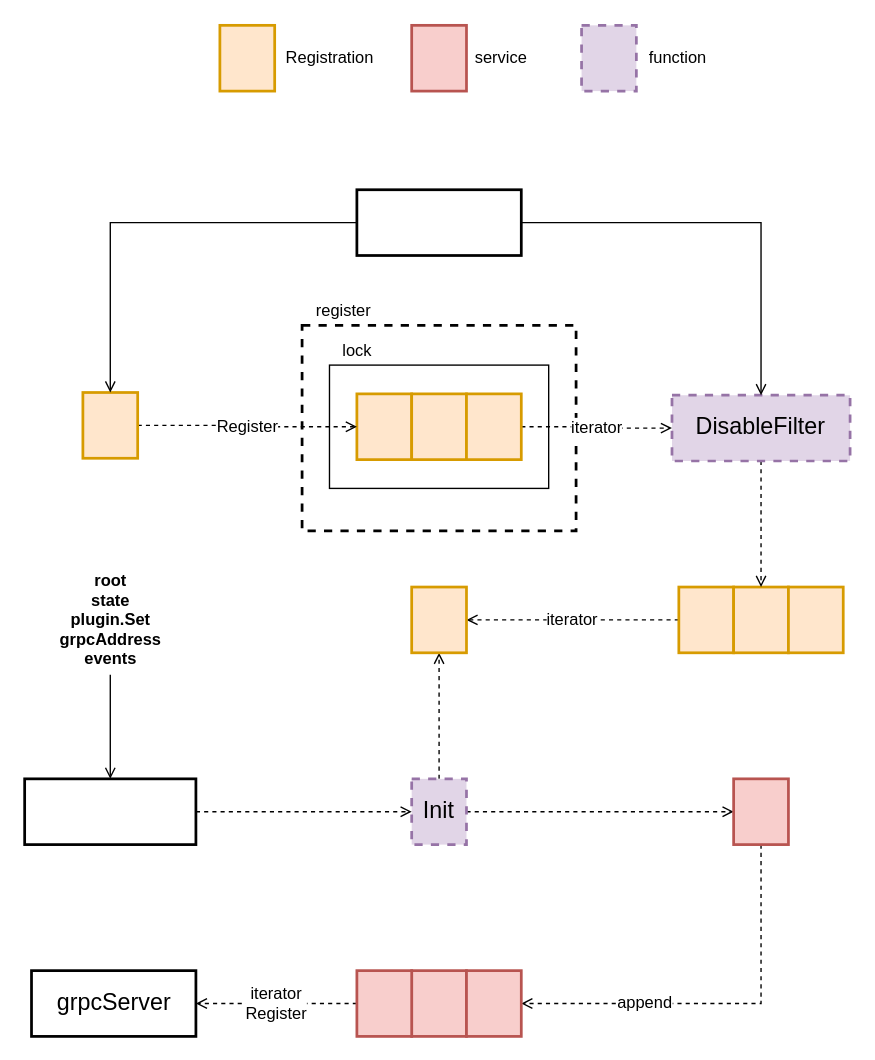
Some shapes in this 875 by 1060 pixel diagram are drawn without their labels. The shapes that lost their labels are listed below. From the top down, each one's centre as x and y in pixels, then its label:
(438,222): Config
(110,811): initContext
